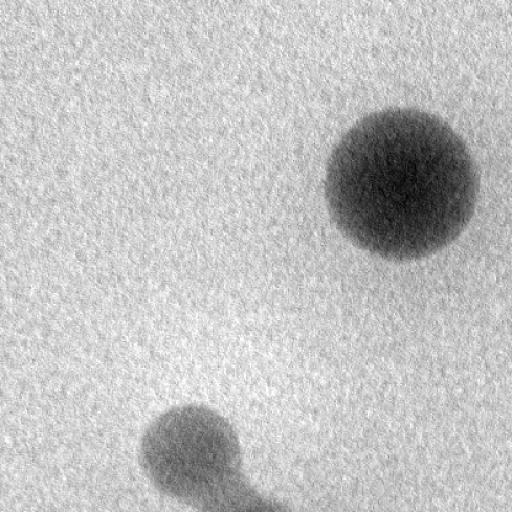Nanoparticles: (324, 106, 481, 263), (139, 400, 241, 494), (184, 468, 264, 510)
